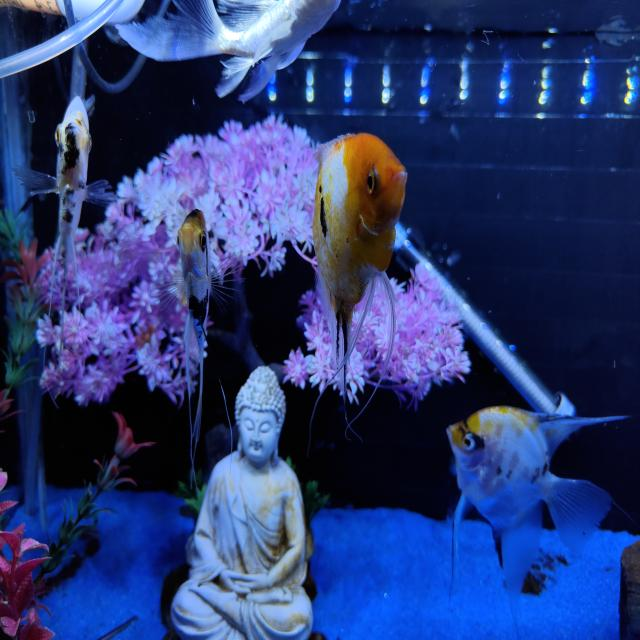Fish: (447, 407, 625, 637), (13, 96, 114, 352), (312, 133, 406, 398), (116, 0, 338, 101), (170, 209, 214, 469)
